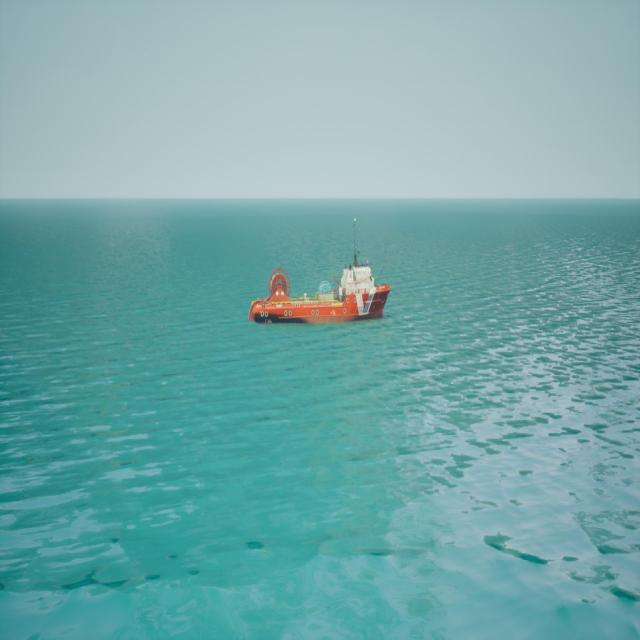tug boat: (250, 222, 394, 328)
